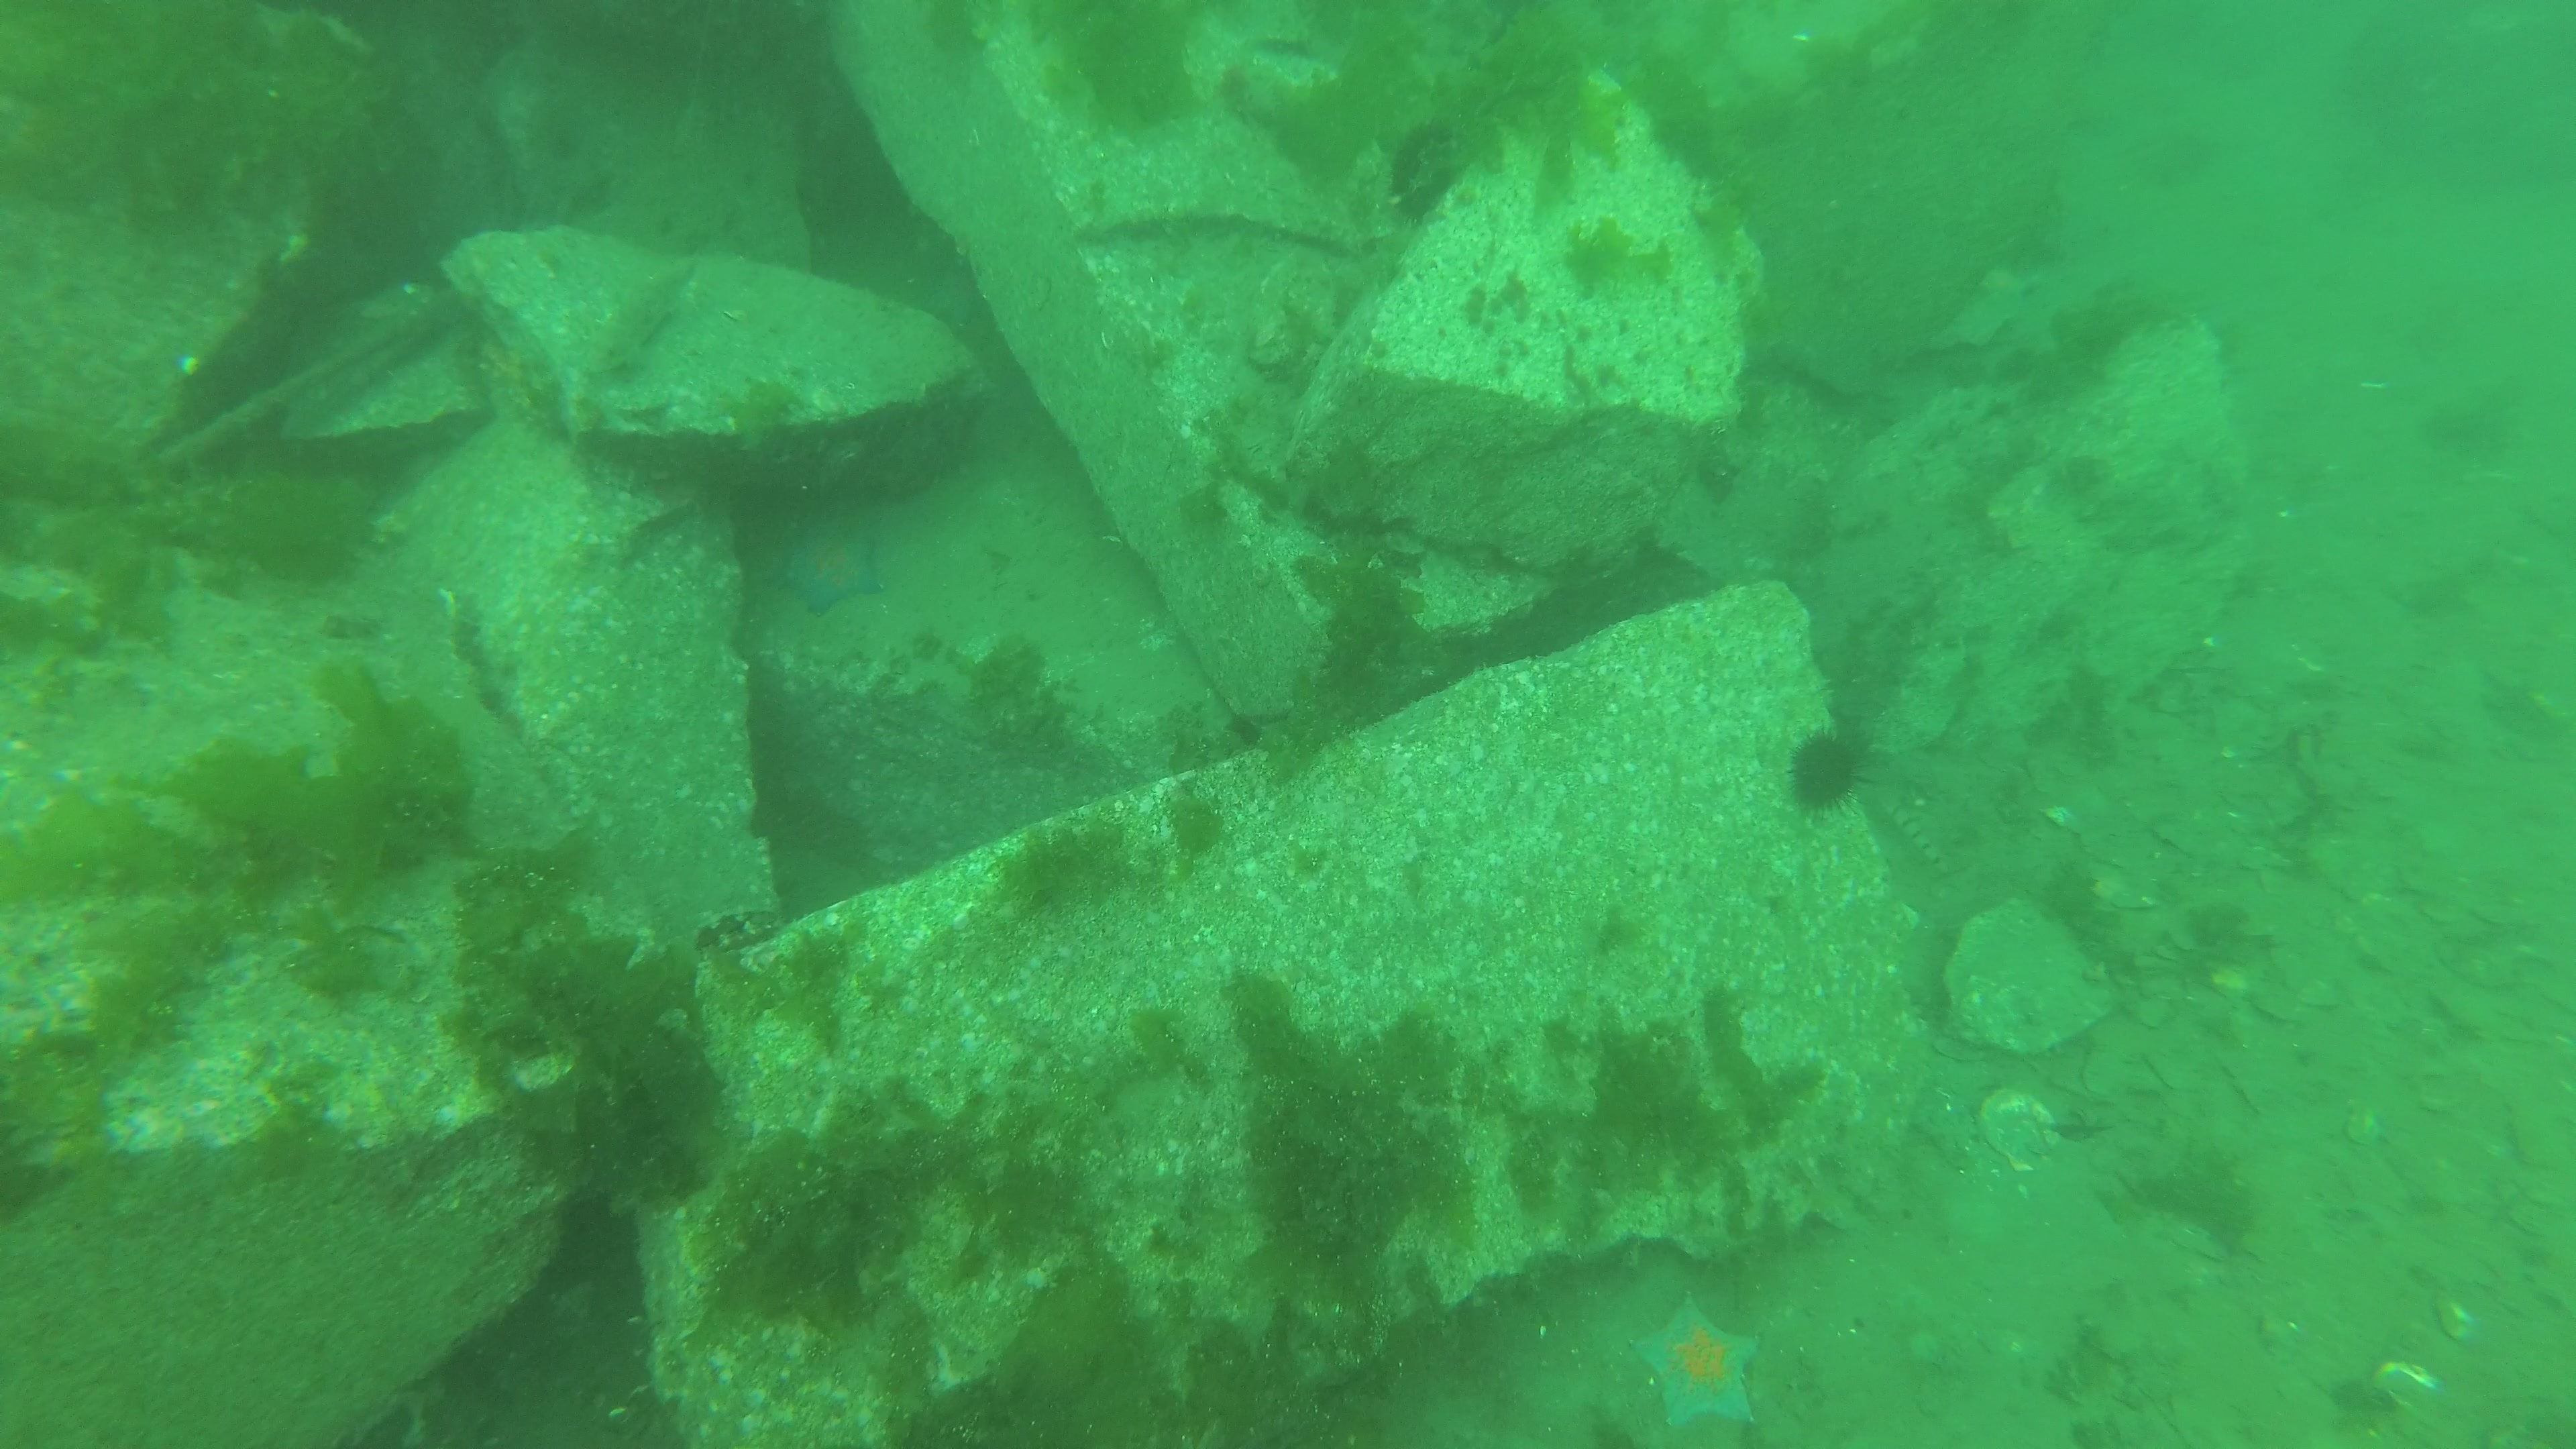echinus: (1785, 722, 1874, 819), (1389, 117, 1460, 228)
holothurian: (1292, 341, 1325, 389)
scallop: (1978, 1085, 2070, 1178)
starfish: (1624, 1284, 1764, 1433), (773, 518, 888, 621), (927, 276, 987, 327)
